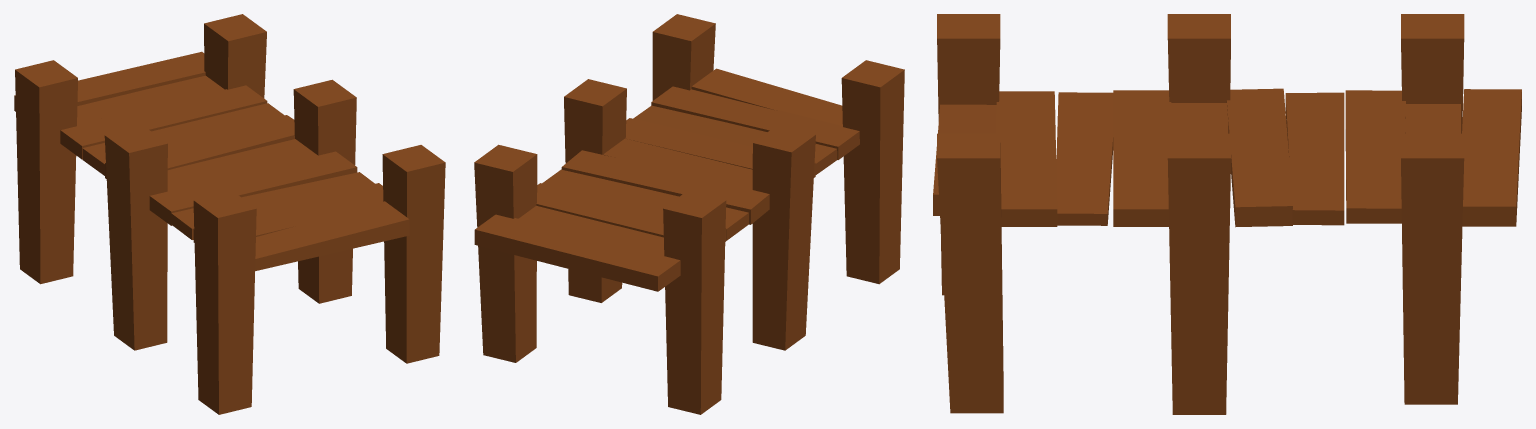
File: Dock_tex.fbx
The picture shows the model from 3 angles, left to right: view 1: azimuth 30°, elevation 25°; view 2: azimuth 150°, elevation 25°; view 3: azimuth 270°, elevation 25°; orthographic projection. The views are drawn at different scales.
Parts seen in each view (by area): view 1: Dock_tex; view 2: Dock_tex; view 3: Dock_tex.
Part boxes in pixels (x1=…): Dock_tex: x1=14, y1=14, x2=445, y2=414; Dock_tex: x1=474, y1=14, x2=904, y2=414; Dock_tex: x1=933, y1=14, x2=1521, y2=414.
Bounding box in the file's own units: 1.21 × 1.02 × 2.09.
